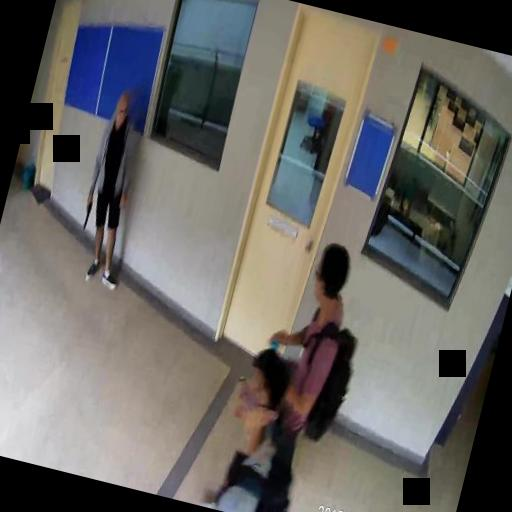Handgun: (78, 198, 93, 231)
